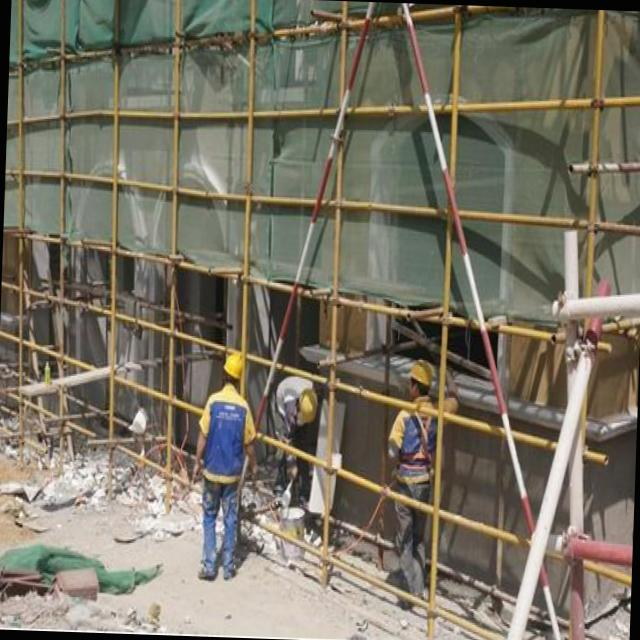helmet: (404, 358, 434, 406), (220, 347, 248, 386)
no-vest: (196, 383, 252, 490)
